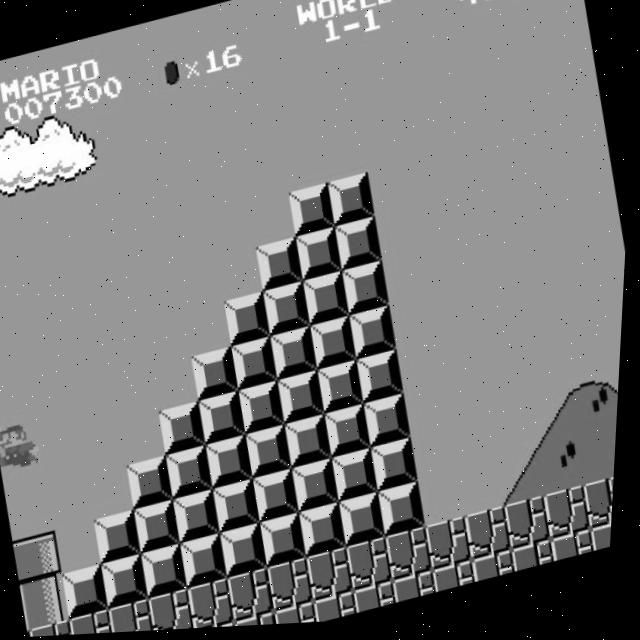11- little_mario: (0, 414, 48, 472)
14- pipe: (26, 574, 78, 630), (24, 584, 38, 630)
15- pipe_head: (18, 530, 70, 586), (17, 541, 29, 585)
17- undestructible_block: (270, 559, 323, 615), (388, 530, 441, 586), (546, 490, 599, 546), (231, 570, 283, 626), (310, 549, 362, 605), (349, 540, 401, 596), (428, 520, 480, 576), (468, 510, 520, 566), (507, 500, 559, 556), (191, 579, 243, 631), (152, 589, 204, 633), (113, 598, 164, 634), (586, 481, 619, 536), (476, 554, 523, 587), (358, 584, 404, 617), (398, 574, 444, 607), (437, 564, 483, 597), (555, 535, 602, 567), (318, 594, 364, 626), (516, 545, 562, 577), (74, 609, 125, 636), (279, 604, 325, 628), (35, 618, 86, 638), (594, 525, 618, 557), (240, 613, 285, 629)
9- hard_block: (224, 293, 277, 349), (294, 461, 347, 517), (295, 229, 348, 285), (318, 362, 371, 418), (341, 495, 394, 551), (342, 263, 395, 319), (137, 500, 189, 557), (184, 534, 236, 591), (65, 564, 117, 620), (97, 510, 149, 566), (105, 554, 157, 610), (144, 545, 196, 601), (161, 402, 213, 458), (176, 490, 228, 546), (200, 392, 252, 448), (215, 481, 267, 537), (223, 525, 275, 581), (240, 382, 292, 438), (255, 471, 307, 527), (263, 515, 315, 571), (256, 239, 308, 295), (264, 283, 316, 339), (279, 372, 331, 428), (302, 505, 354, 561), (303, 274, 355, 330), (334, 451, 386, 507), (335, 219, 387, 275), (358, 352, 410, 408), (373, 441, 425, 497), (381, 485, 433, 541), (129, 456, 181, 511), (247, 427, 299, 482), (169, 446, 220, 501), (193, 348, 244, 403), (208, 437, 259, 492), (232, 338, 283, 393), (272, 328, 323, 383), (287, 416, 338, 471), (288, 185, 339, 240), (311, 318, 362, 373), (327, 407, 378, 462), (328, 175, 379, 230), (351, 308, 402, 363), (366, 397, 417, 452)
